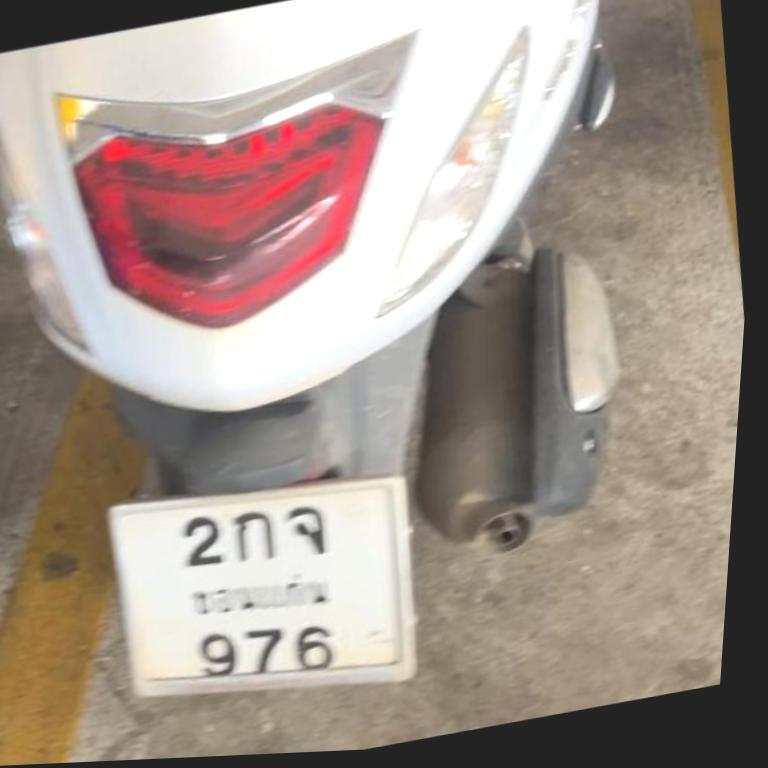license plate: (109, 477, 413, 694)
